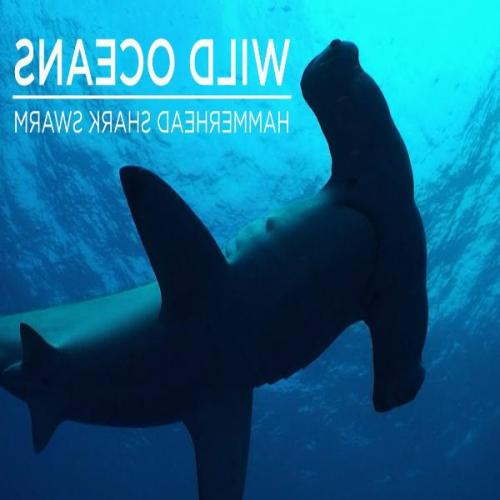shark-endangered: (0, 40, 431, 494)
